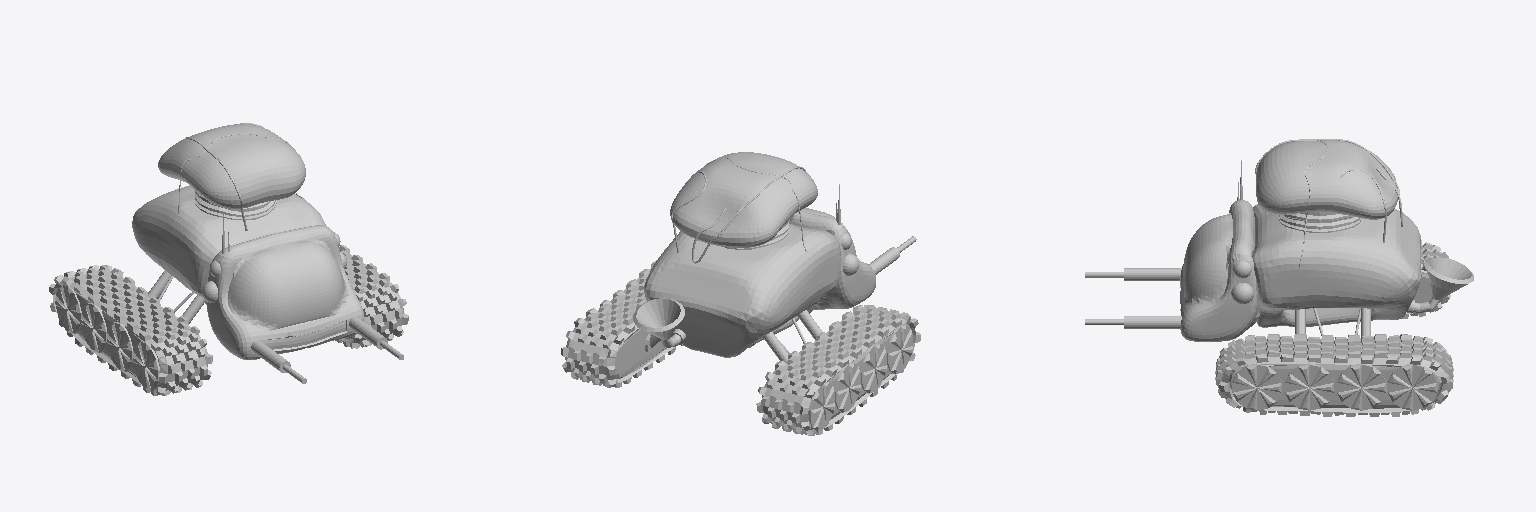
Rendered from Tank W-O Reverse.obj.
3 renders of one model, left to right at view 1: azimuth 30°, elevation 25°; view 2: azimuth 150°, elevation 25°; view 3: azimuth 270°, elevation 25°, orthographic.
Visible parts, largest first — view 1: Geo1 R_Tread_Part_10, Geo1 Bubble, Geo1 Body, Geo1 Windsheild, Geo1 Head, Geo1 L_Tread_Part_19, Geo1 R_Tread_Part_5, Geo1 R_Tread_Part_3, Geo1 R_Tread_Part_4, Geo1 Accordian, Geo1 R_Tread_Part_6, Geo1 Guns_2; view 2: Geo1 Body, Geo1 Bubble, Geo1 R_Tread_Part_10, Geo1 L_Tread_Part_19, Geo1 Head, Geo1 Exhaust, Geo1 R_Tread_Part_4, Geo1 R_Tread_Part_5, Geo1 R_Tread_Part_3, Geo1 R_Tread_Part_6; view 3: Geo1 Body, Geo1 L_Tread_Part_19, Geo1 Bubble, Geo1 Head, Geo1 Windsheild, Geo1 L_Tread_Part_16, Geo1 L_Tread_Part_17, Geo1 L_Tread_Part_14, Geo1 L_Tread_Part_15, Geo1 Exhaust, Geo1 Accordian, Geo1 R_Tread_Part_10 (+2 smaller).
Boxes of the visible parts, box(x1,y1,x2,y2) form: Geo1 R_Tread_Part_10: box(49, 265, 212, 395); Geo1 Bubble: box(158, 124, 305, 208); Geo1 Body: box(132, 186, 326, 304); Geo1 Windsheild: box(227, 240, 348, 330); Geo1 Head: box(206, 225, 363, 359); Geo1 L_Tread_Part_19: box(335, 245, 408, 348); Geo1 R_Tread_Part_5: box(107, 322, 133, 371); Geo1 R_Tread_Part_3: box(133, 341, 159, 390); Geo1 R_Tread_Part_4: box(81, 303, 106, 352); Geo1 Accordian: box(195, 190, 276, 220); Geo1 R_Tread_Part_6: box(55, 285, 81, 333); Geo1 Guns_2: box(251, 340, 290, 372); Geo1 Body: box(644, 224, 840, 357); Geo1 Bubble: box(670, 152, 817, 247); Geo1 R_Tread_Part_10: box(756, 305, 920, 435); Geo1 L_Tread_Part_19: box(561, 260, 682, 387); Geo1 Head: box(789, 211, 875, 309); Geo1 Exhaust: box(633, 298, 685, 347); Geo1 R_Tread_Part_4: box(835, 363, 860, 412); Geo1 R_Tread_Part_5: box(861, 344, 886, 393); Geo1 R_Tread_Part_3: box(887, 324, 912, 374); Geo1 R_Tread_Part_6: box(808, 382, 834, 431); Geo1 Body: box(1252, 204, 1420, 327); Geo1 L_Tread_Part_19: box(1215, 334, 1453, 416); Geo1 Bubble: box(1256, 140, 1397, 219); Geo1 Head: box(1180, 200, 1259, 341); Geo1 Windsheild: box(1184, 213, 1232, 304); Geo1 L_Tread_Part_16: box(1337, 364, 1386, 410); Geo1 L_Tread_Part_17: box(1232, 363, 1281, 410); Geo1 L_Tread_Part_14: box(1388, 364, 1437, 410); Geo1 L_Tread_Part_15: box(1285, 363, 1333, 410); Geo1 Exhaust: box(1407, 257, 1473, 313); Geo1 Accordian: box(1279, 212, 1361, 232); Geo1 R_Tread_Part_10: box(1402, 240, 1450, 318).
Size of the model in its own units: 23.45 by 18.74 by 31.61.